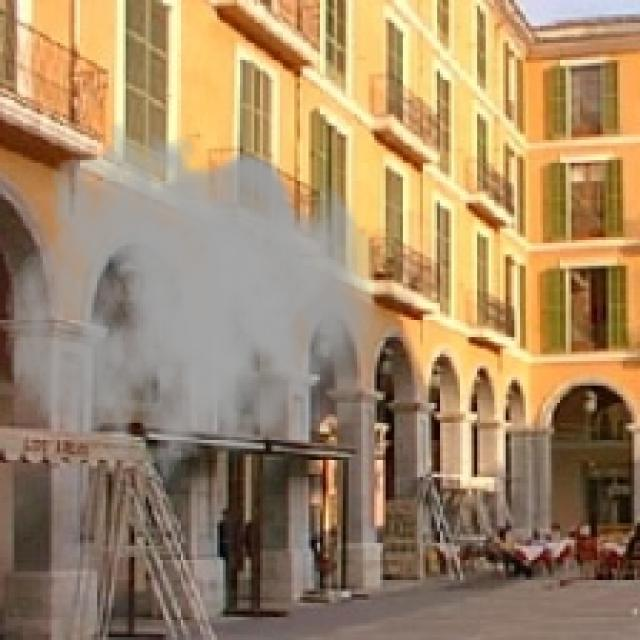smoke: (3, 120, 383, 503)
